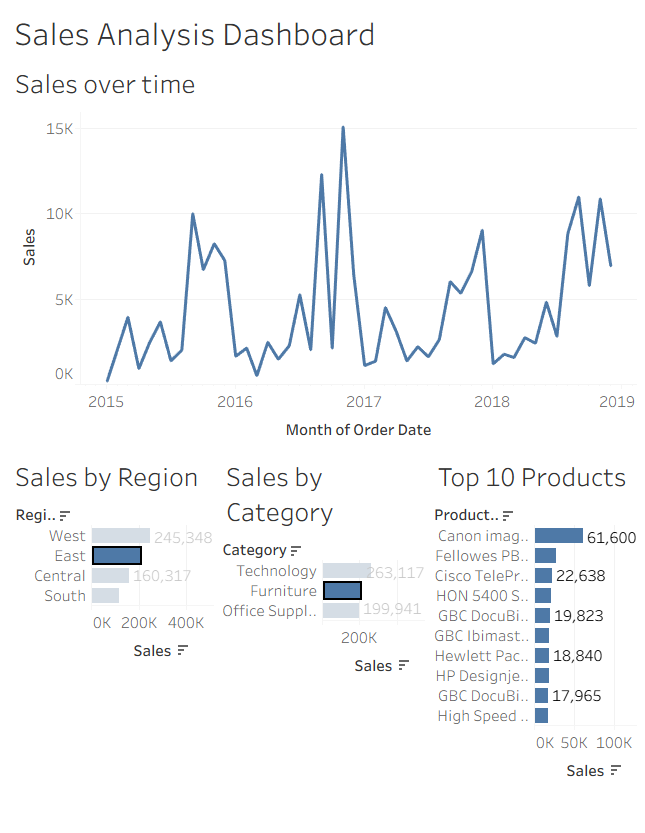

This screenshot's page, from the dashboard's own definition file:
{"tool":"tableau","page":{"name":"Sales Analysis Dashboard","canvas":[650,860],"ordinal":0},"visuals":[{"type":"title","box":[8,8.1,634,50.5]},{"type":"worksheet","title":"Sales over time","mark":"Automatic","rows":["Sales"],"cols":["Order Date"],"box":[8,58.5,634,396.7]},{"type":"worksheet","title":"Sales by Region","mark":"Automatic","rows":["Region"],"cols":["Sales"],"box":[8,455.2,211.3,396.7]},{"type":"worksheet","title":"Sales by Category","mark":"Automatic","rows":["Category"],"cols":["Sales"],"box":[219.3,455.2,211.3,396.7]},{"type":"worksheet","title":"Top 10 Products","mark":"Automatic","rows":["Product Name"],"cols":["Sales"],"box":[430.7,455.2,211.3,396.7]}]}

Visuals, with their boxes in screenshot pixels (x1, y1, x2, y2), scaled from the page's 650x860 canvas onto the 645x833 screenshot:
title: bbox=[8, 8, 637, 57]
"Sales over time" worksheet: bbox=[8, 57, 637, 441]
"Sales by Region" worksheet: bbox=[8, 441, 218, 825]
"Sales by Category" worksheet: bbox=[218, 441, 427, 825]
"Top 10 Products" worksheet: bbox=[427, 441, 637, 825]
